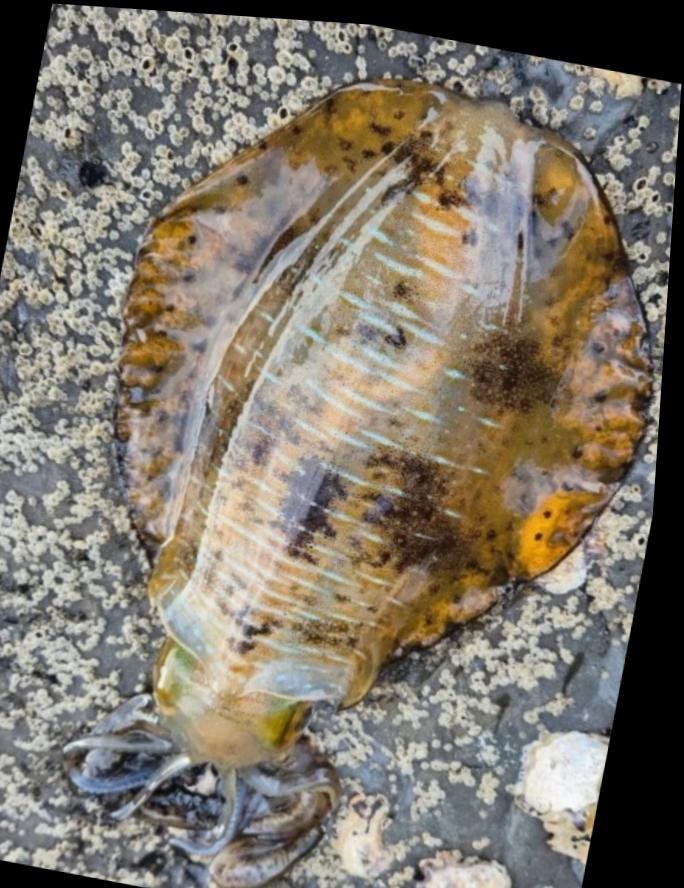Cephalopod: (76, 77, 656, 888)
